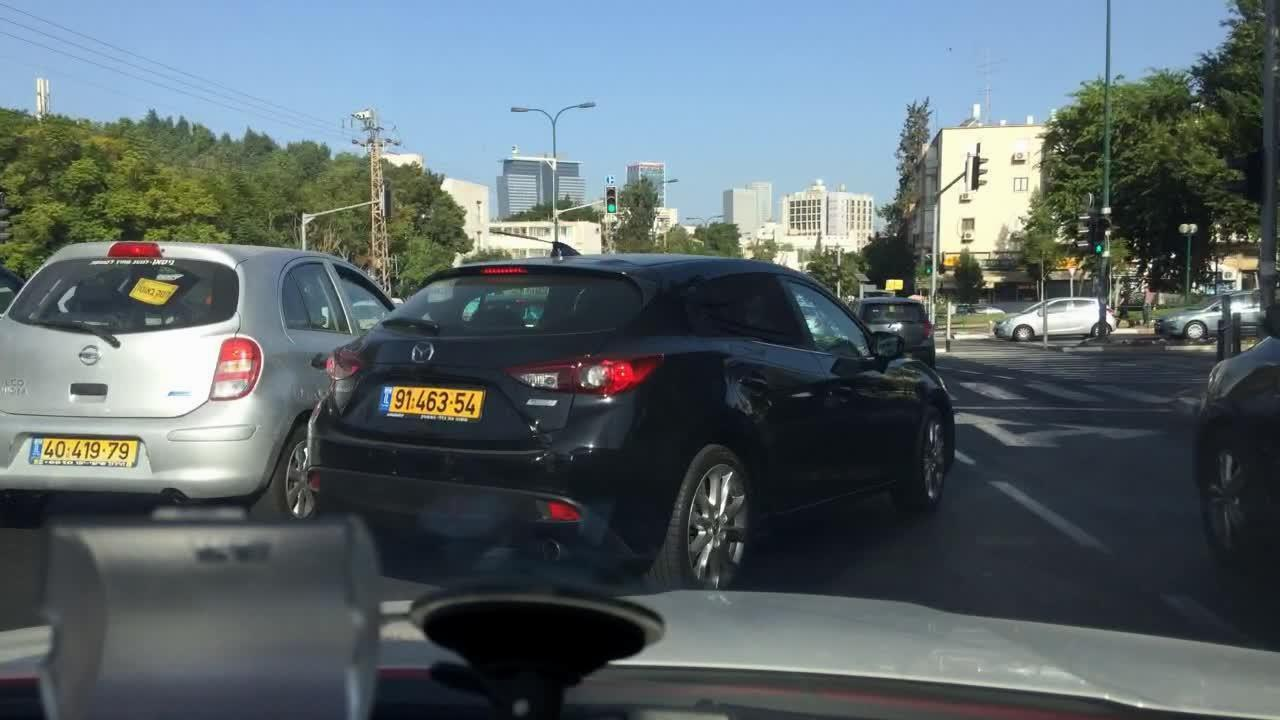Mazda: (407, 339, 437, 369)
Nissan: (73, 340, 108, 374)
